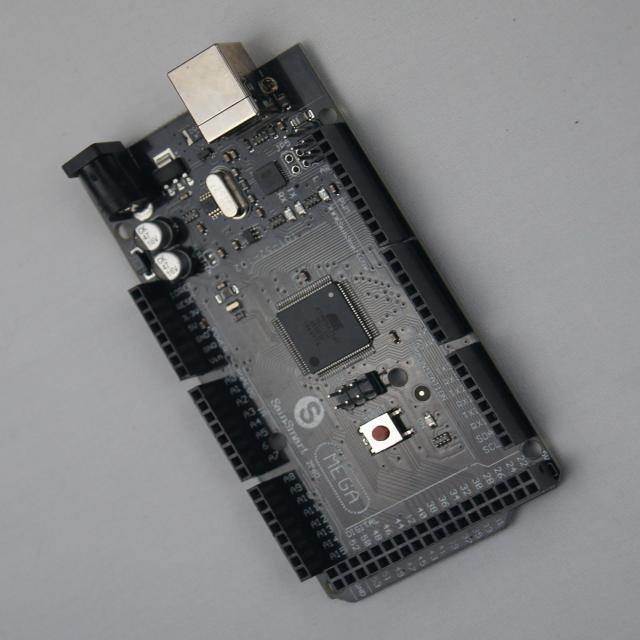Arduino Mega 2560 -Black-: (64, 44, 560, 602)
